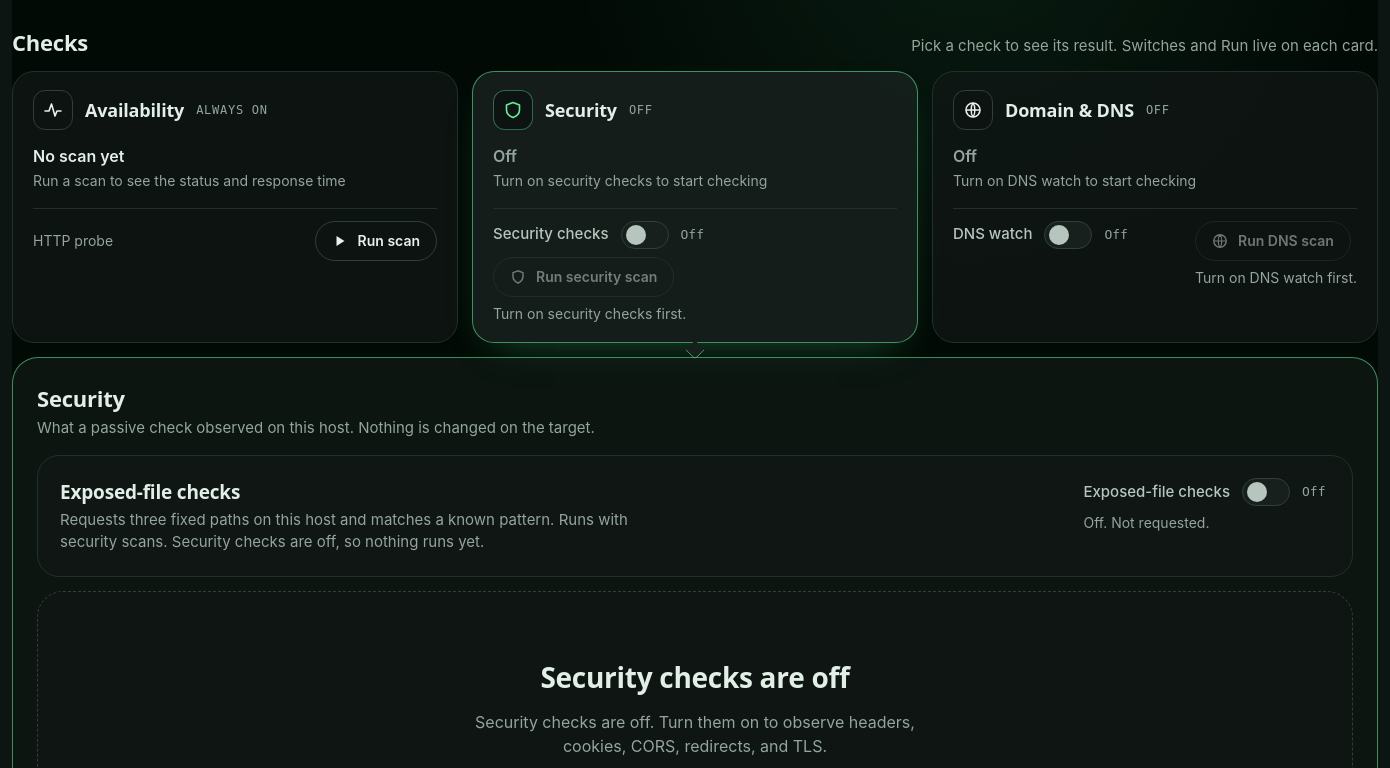
it: SecurityPosture › turns the checks on with the switch and enables the button
What coordinates should you click on to do the following:
click the 1st switch named "Security checks"
I would click on:
 (644, 235)
Its box is [620, 221, 668, 249].
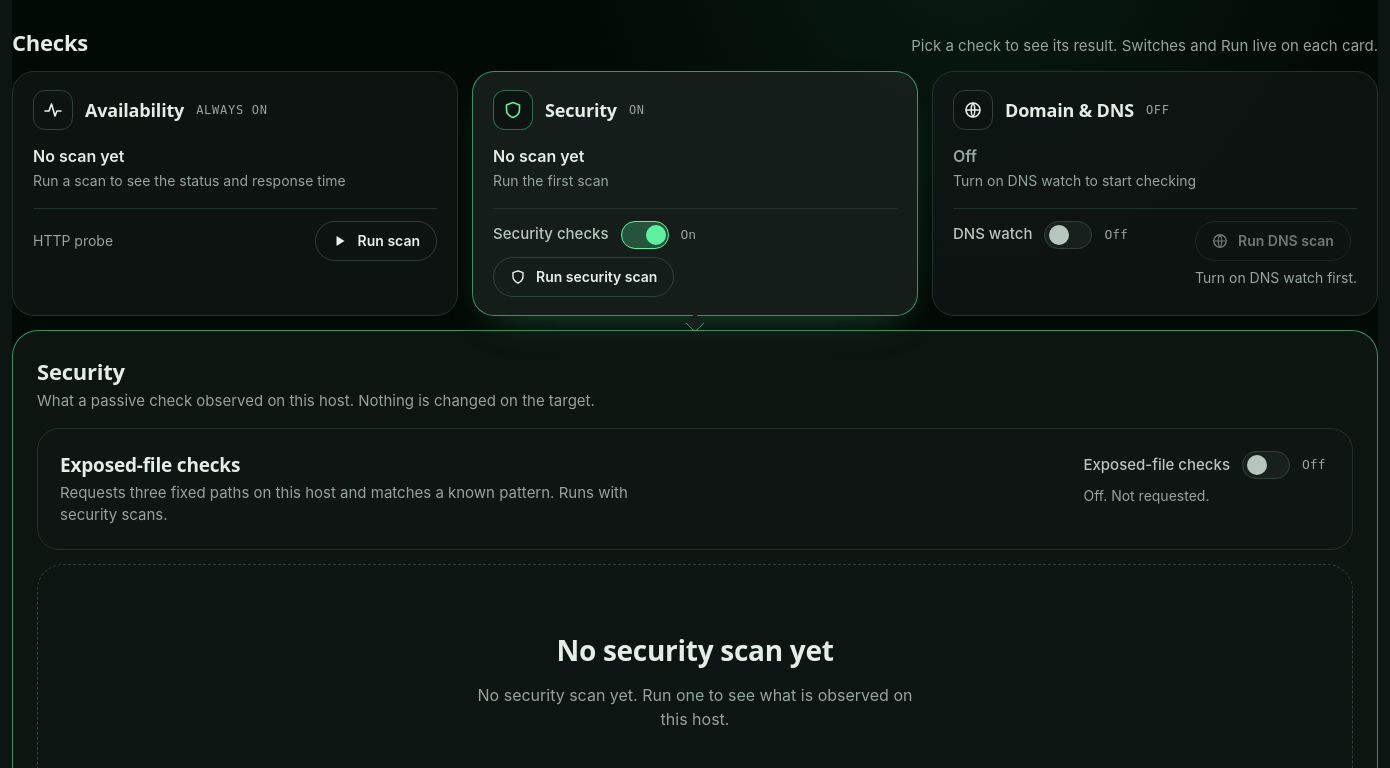
Expected: the switch named "Security checks" next to "Security checks" is checked, [620, 221, 668, 249]
Expected: the button "Run security scan" is enabled, [493, 257, 674, 297]
